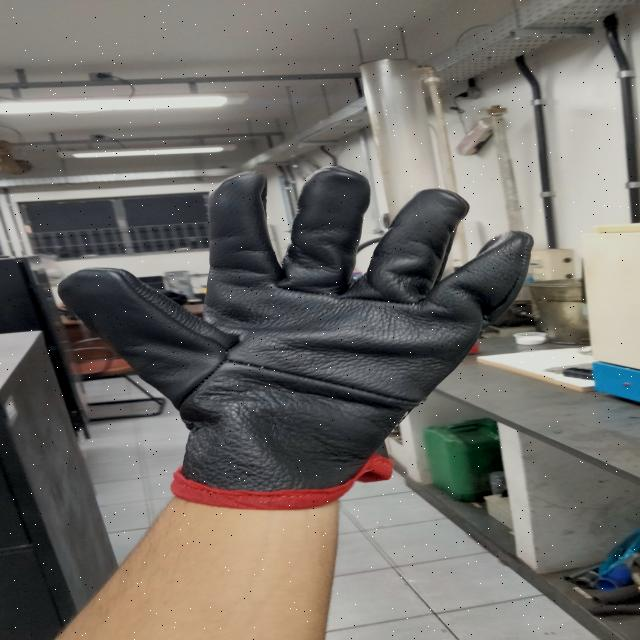Gloves: (55, 164, 542, 505)
